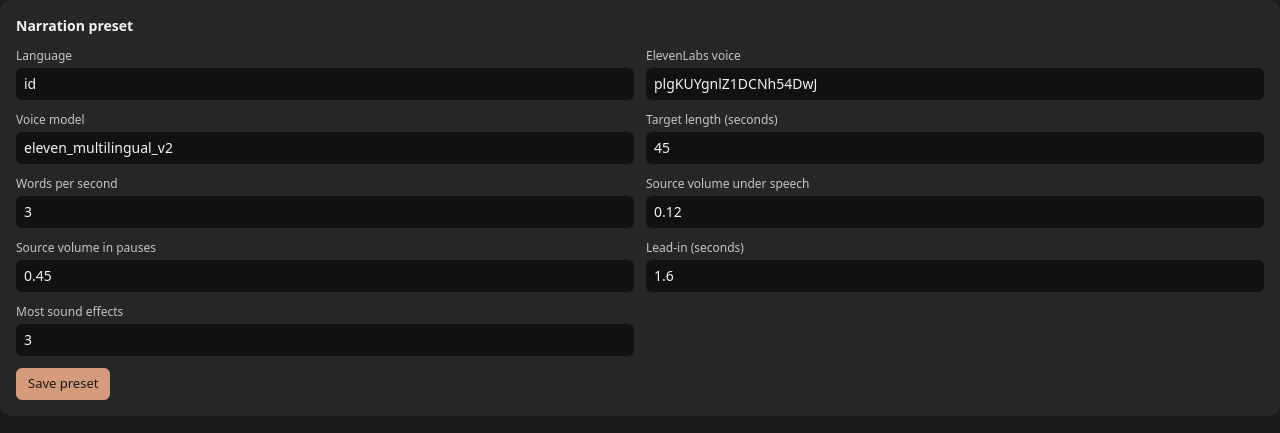
Scenario: the preset form loads, edits and saves with its revision
Replace the text in the number field labelled "Target length (seconds)" with "30": (955, 148) [646,132,1264,164]
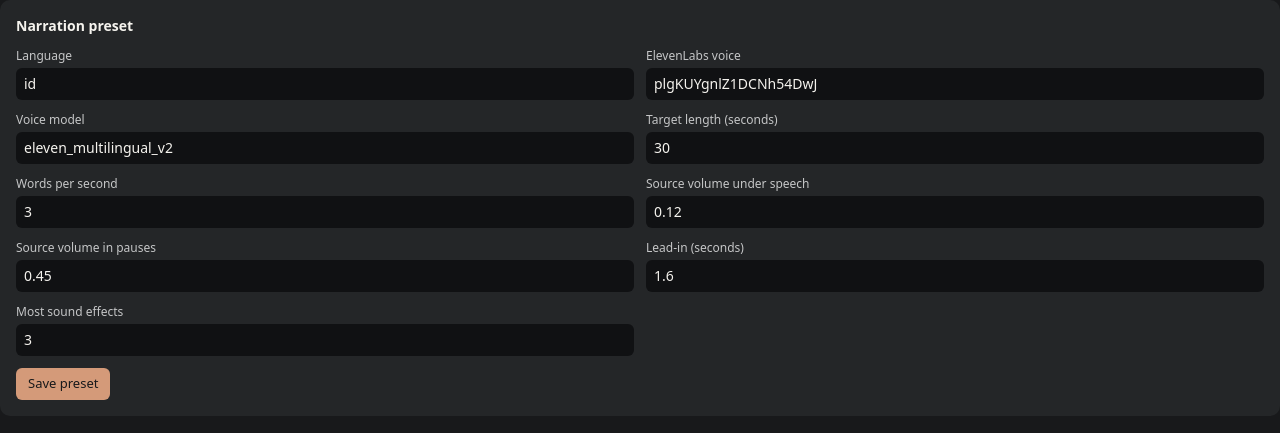
Click the button "Save preset": (63, 384) [16,368,110,400]
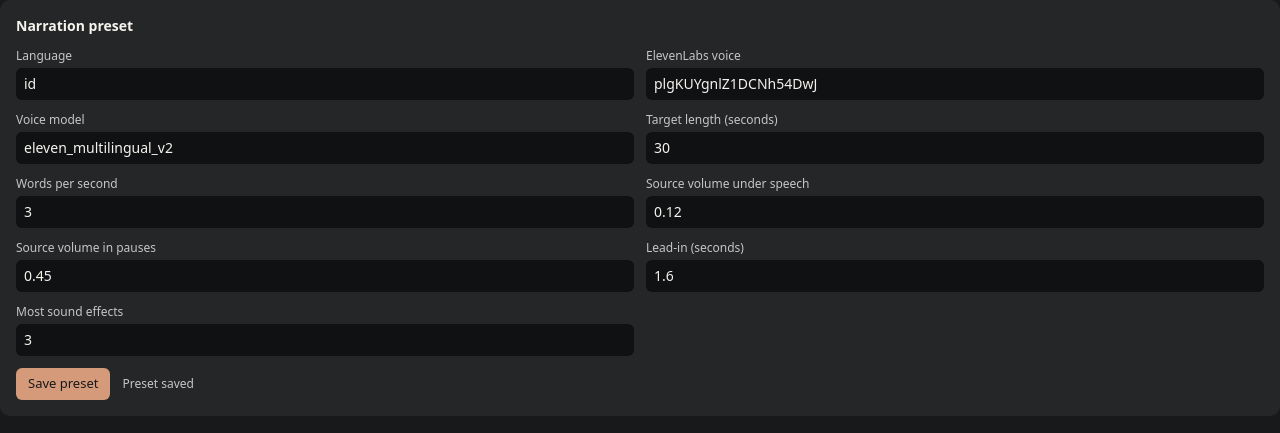
Expected: the message reads "Preset saved", [122,375,194,392]
